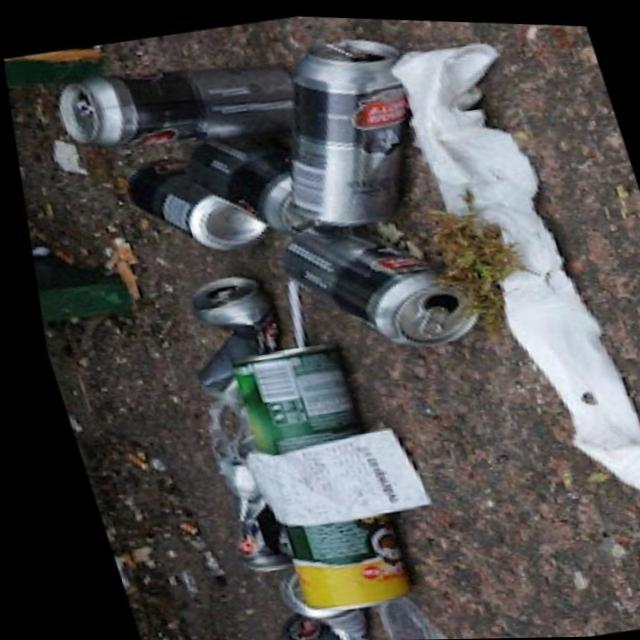clothes: (204, 327, 414, 606), (237, 8, 444, 242), (262, 190, 506, 357), (32, 36, 303, 174), (92, 132, 334, 271), (137, 254, 289, 404), (169, 414, 287, 582), (201, 575, 358, 640)
food: (393, 10, 640, 597)
leaf: (328, 586, 438, 640)
